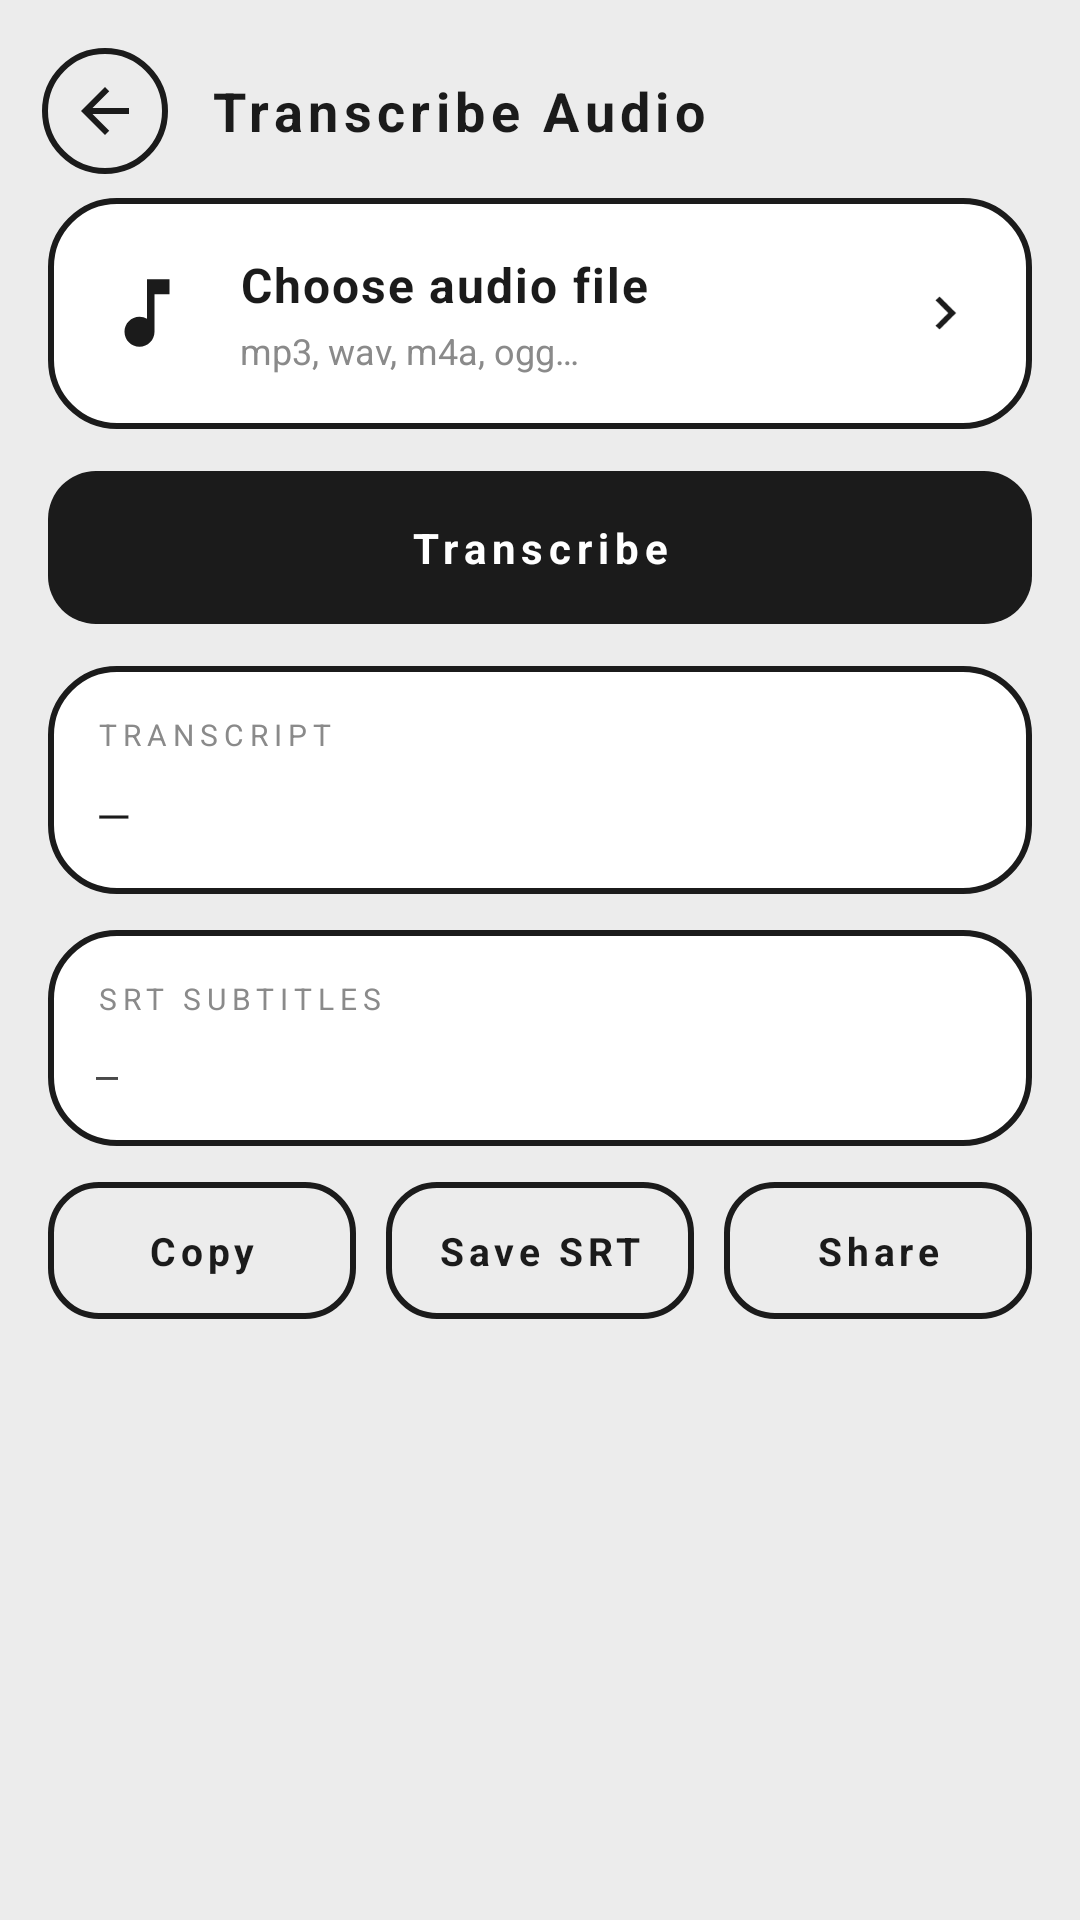

Point at icon controls on the screen. Image size 1080x1920, points as (x=x, y=y).
Back: (x=105, y=111)
chevron: (x=945, y=313)
